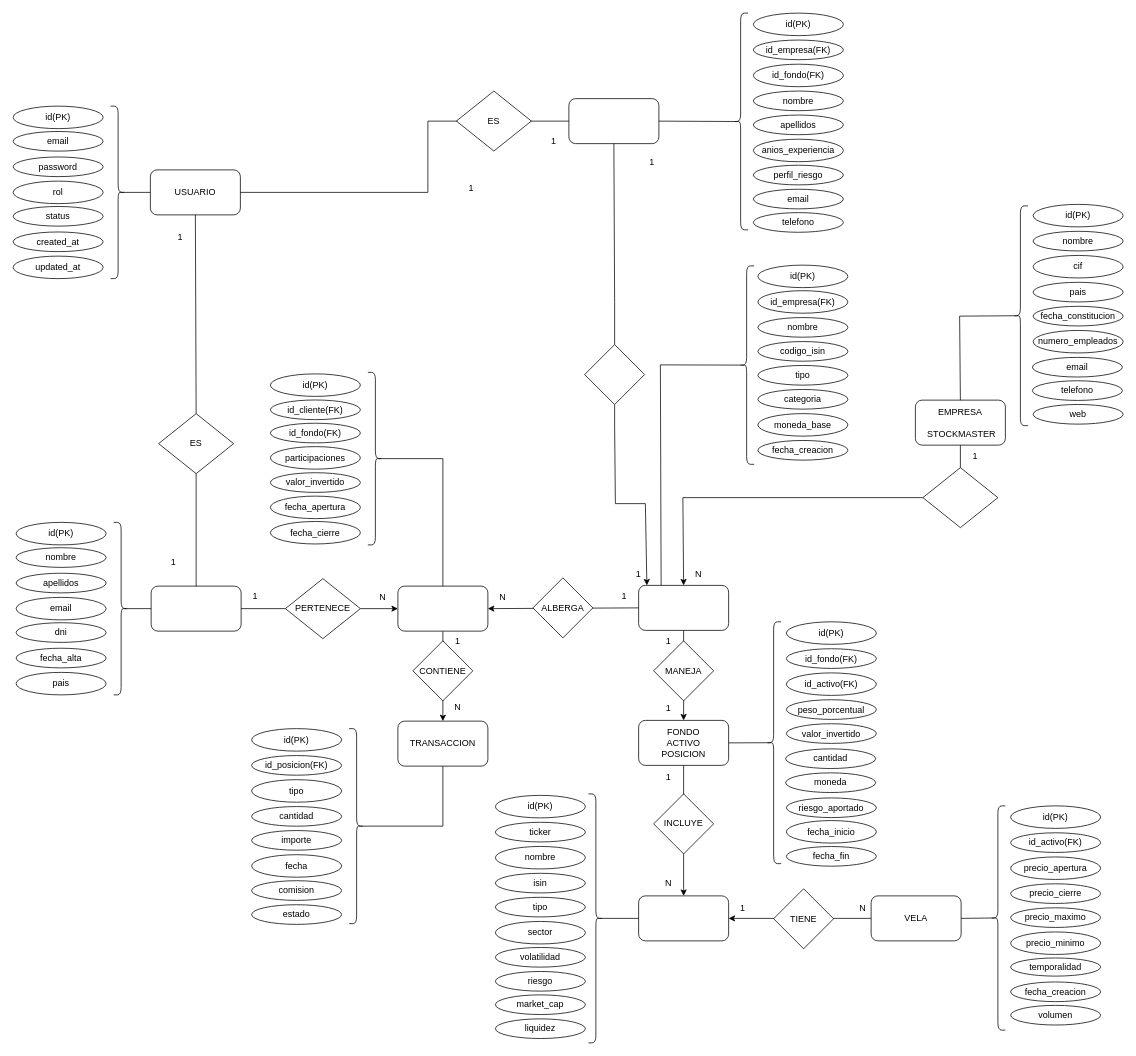
The diagram is 1136 pixels wide and 1056 high, and some of its shapes have lost their labels. Each missing label, with the centre of its shape:
"ACTIVO" belongs at (683,918).
"ADMINISTRA" belongs at (960,497).
"CLIENTE" belongs at (195,608).
"CLIENTE FONDO POSICION" belongs at (442,608).
"FONDO" belongs at (683,607).
"GESTIONA" belongs at (614,374).
"GESTOR" belongs at (613,121).
